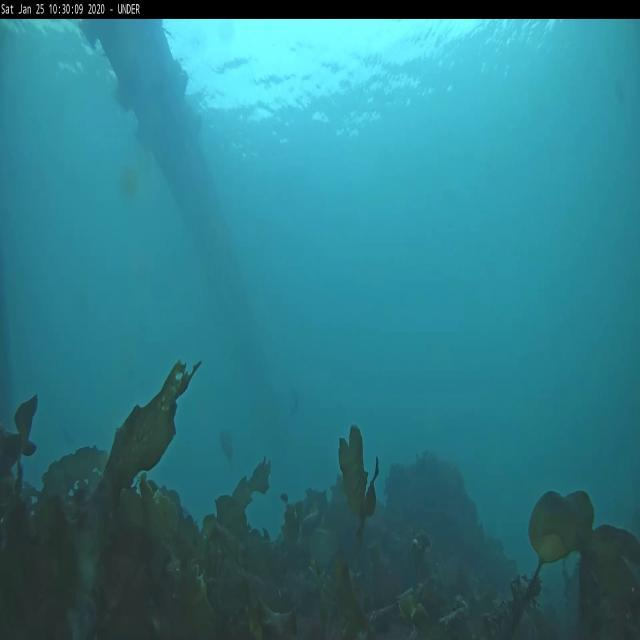fish: (218, 427, 234, 462), (287, 392, 303, 424)
